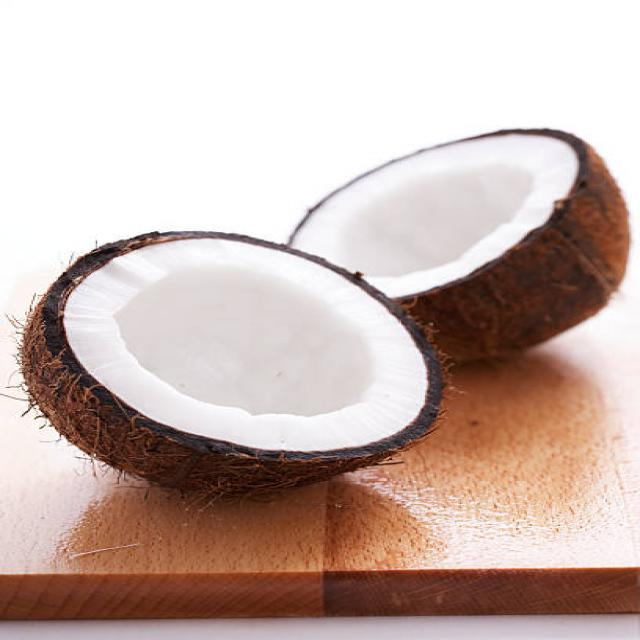coconut: (22, 234, 411, 478), (402, 122, 634, 356)
